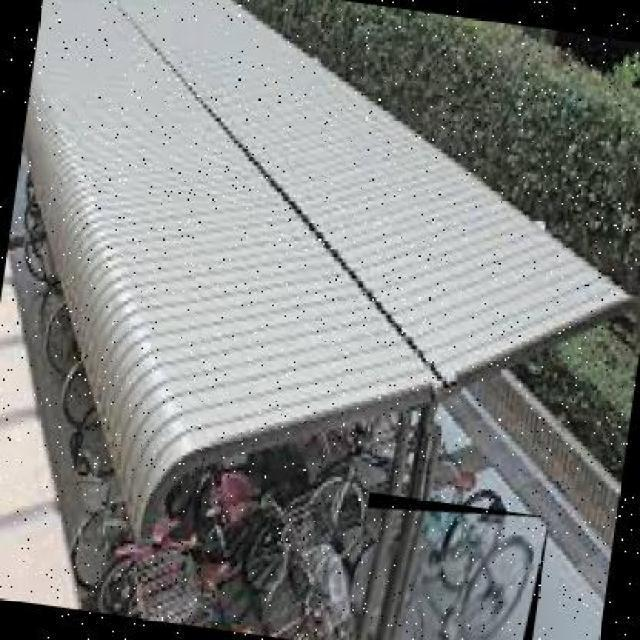bicycle: (347, 492, 550, 640)
